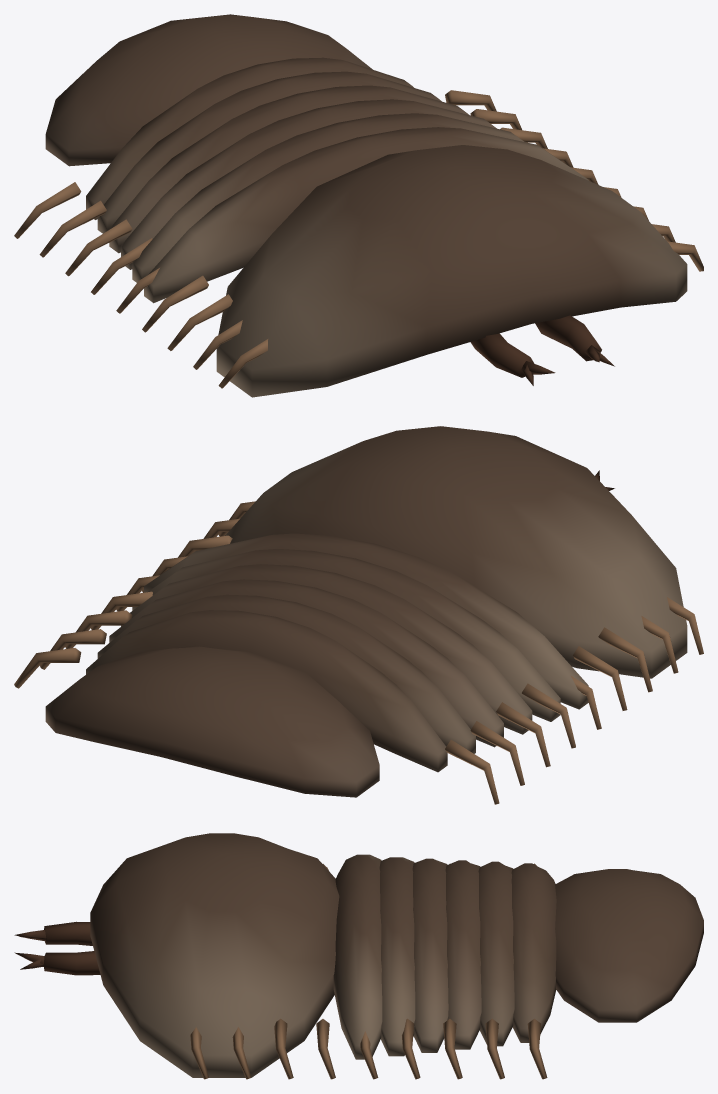
Rendered from Mollisonia.fbx.
3 renders of one model, top to bottom at view 1: azimuth 30°, elevation 25°; view 2: azimuth 150°, elevation 25°; view 3: azimuth 270°, elevation 25°, orthographic. The views are drawn at different scales.
Visible parts, largest first — view 1: Mollisonia; view 2: Mollisonia; view 3: Mollisonia.
Part boxes in pixels (box(x1,y1,x2,y2)): Mollisonia: box(14, 14, 703, 397); Mollisonia: box(14, 426, 703, 804); Mollisonia: box(14, 833, 703, 1079).
Bounding box in the file's own units: 0.8907 × 0.2881 × 1.33.
